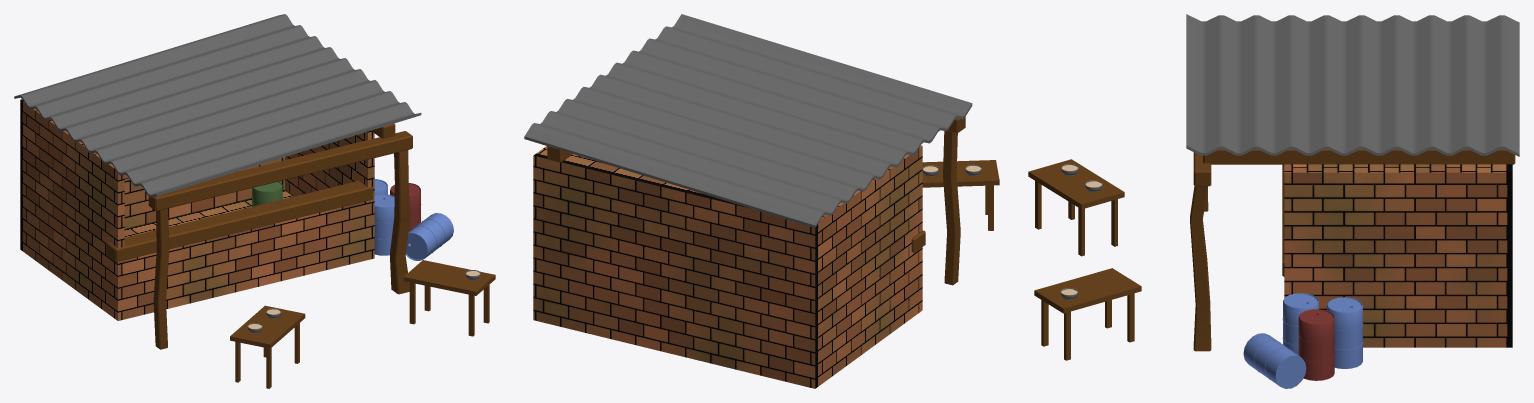
Rendered from Kitchen1.fbx.
3 views of the same model, side by side, from view 1: azimuth 30°, elevation 25°; view 2: azimuth 150°, elevation 25°; view 3: azimuth 270°, elevation 25° (orthographic). The views are drawn at different scales.
Parts seen in each view (by area): view 1: Kitchen; view 2: Kitchen; view 3: Kitchen.
Boxes of the visible parts, <box> form: Kitchen: <box>14,14,495,388</box>; Kitchen: <box>524,14,999,388</box>; Kitchen: <box>1028,14,1519,388</box>.
Bounding box in the file's own units: 161 × 82.44 × 175.
